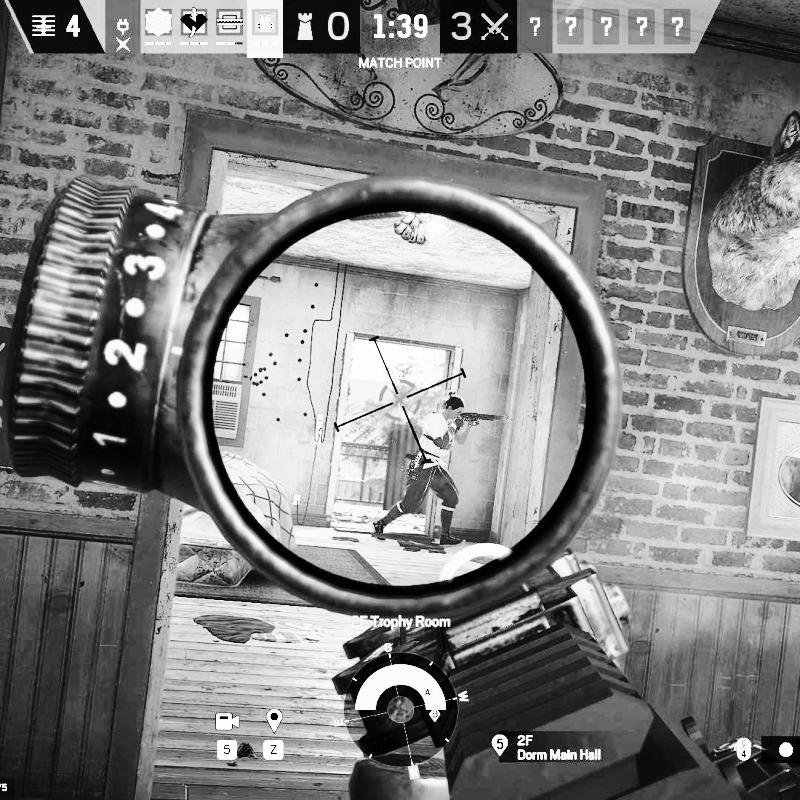Character: (370, 390, 507, 547)
Head: (441, 392, 466, 421)
